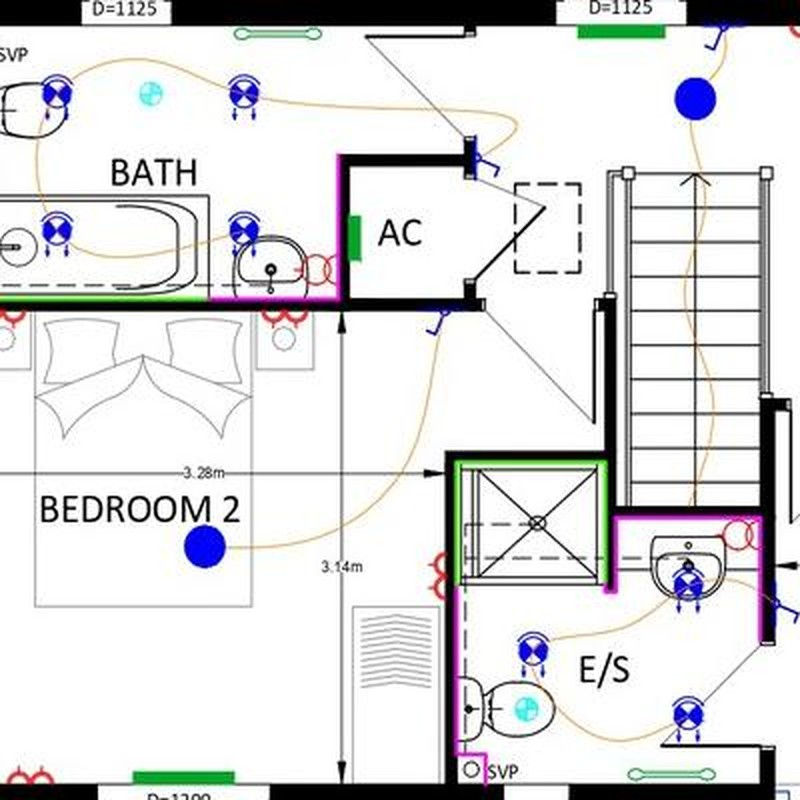Ceiling Mounted Continuous Extract FanWith Boost Mode Activated By Light Switch: (139, 82, 163, 105), (515, 698, 539, 721)
Double Socket: (427, 552, 446, 601), (7, 765, 54, 784), (262, 311, 309, 329)
Full Height Tiling: (454, 459, 608, 583), (1, 294, 200, 300)
Light Switch: (476, 152, 501, 178), (425, 310, 450, 336), (703, 26, 729, 51), (776, 598, 800, 625)
Low Energy Downlighter: (40, 211, 74, 257), (228, 74, 260, 121), (672, 696, 704, 743), (517, 632, 550, 677), (229, 211, 261, 256), (42, 75, 74, 119), (672, 568, 704, 612)
Low Energy Pendant Light: (184, 525, 225, 569), (675, 78, 716, 120)
Radiator: (133, 771, 234, 784), (577, 25, 666, 38), (348, 215, 361, 261)
Shaver Socket: (294, 254, 337, 286), (716, 519, 758, 551)
